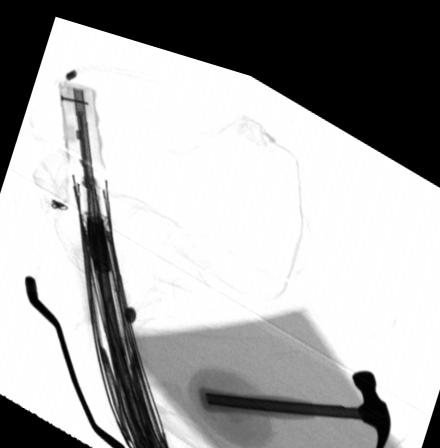Hammer: (199, 349, 390, 438)
Wrench: (24, 275, 128, 448)
